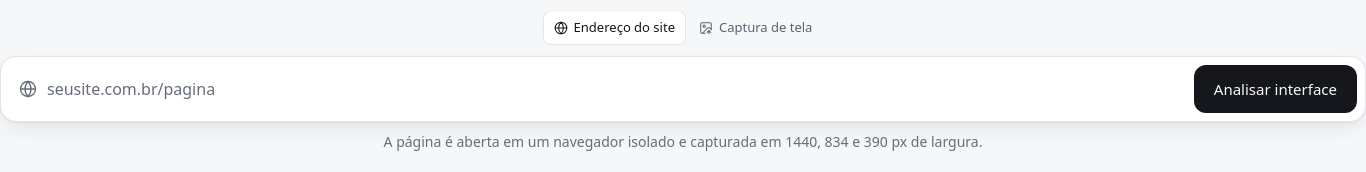
Test: AnalyzeForm › exibe a mensagem de erro do servidor (ex.: rede interna bloqueada)
Type "http://10.0.0.1" into the field named "Endereço da página" at (611,89), box top-left (47, 67), bottom-right (1176, 111)
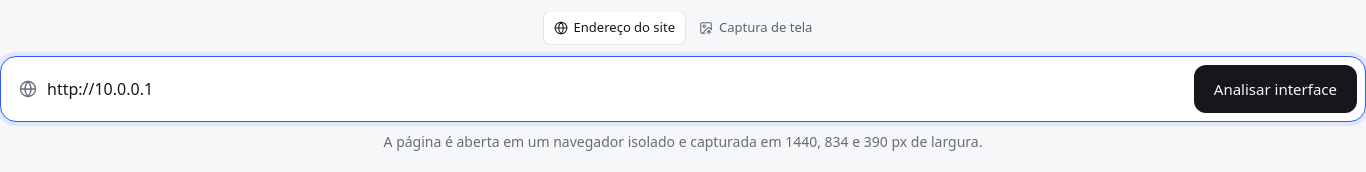
Click the button "Analisar interface" at (1275,89), box top-left (1194, 65), bottom-right (1357, 113)
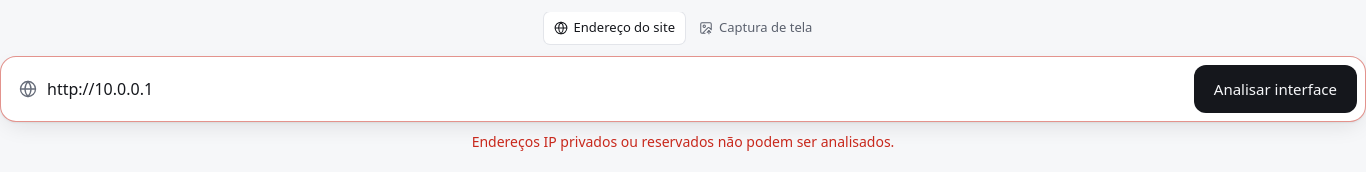
expect the message shows "privados ou reservados": met, box top-left (472, 132), bottom-right (894, 151)
